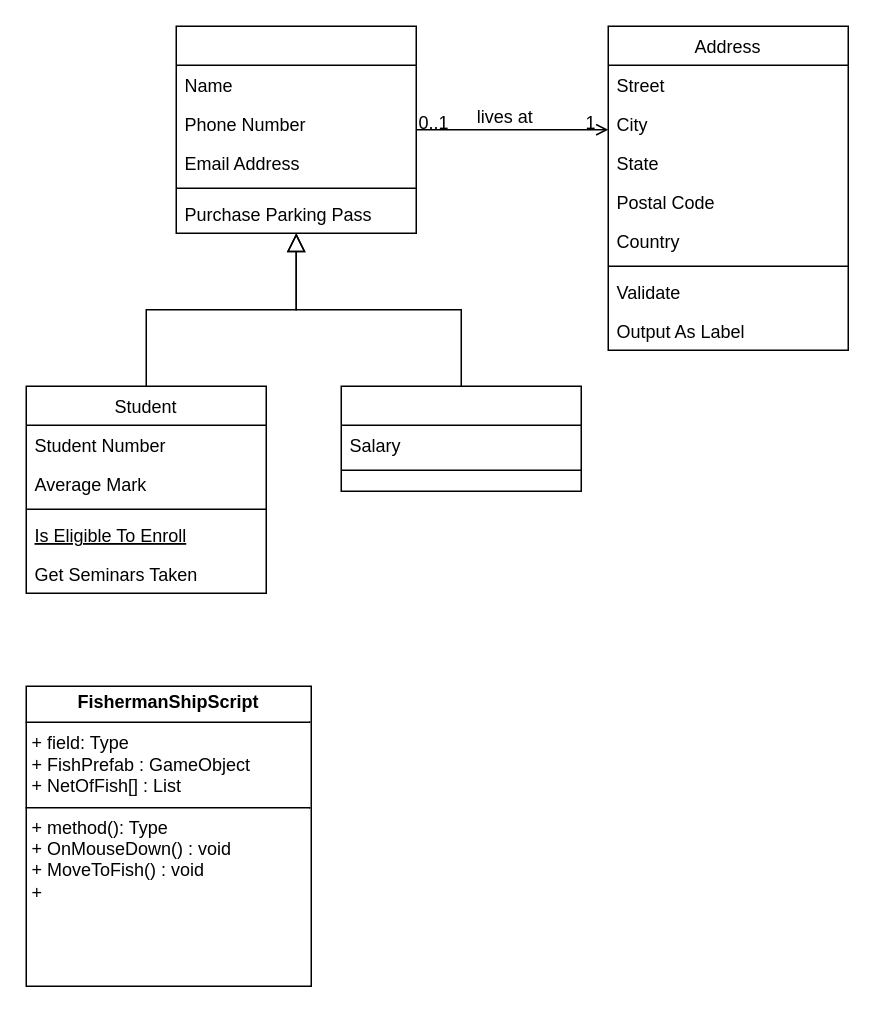
The diagram is 875 pixels wide and 1013 high, and some of its shapes have lost their labels. The box of each missing label's shape, as (x1, y1, x2, y2) in pixels:
Person: (175, 25, 416, 233)
Professor: (340, 385, 581, 491)
